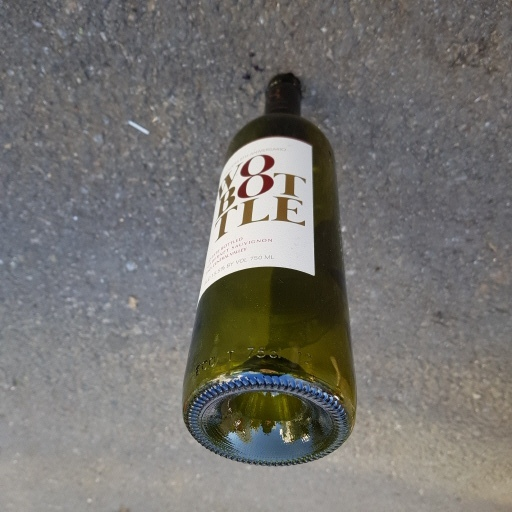Glass_2: (176, 70, 367, 470)
